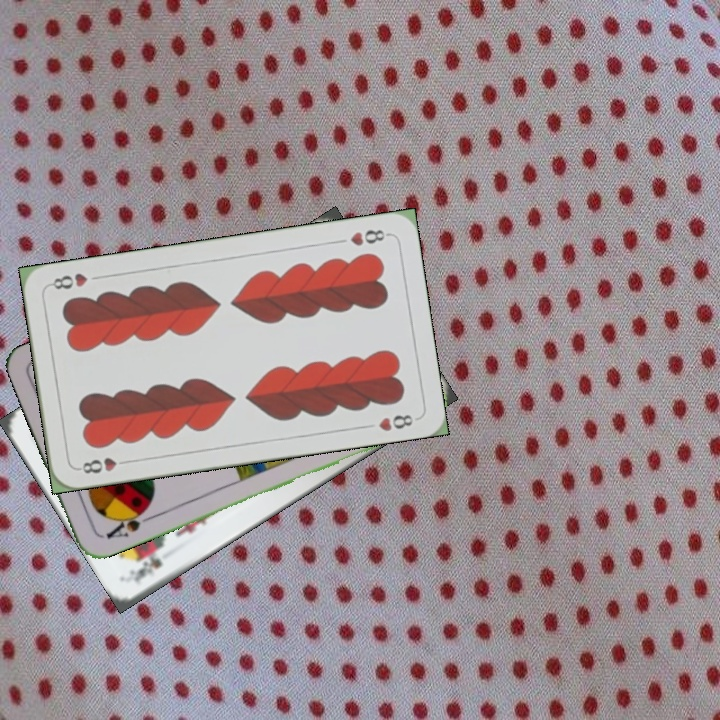H8: (74, 453, 133, 476), (346, 225, 392, 249)
SA: (101, 503, 155, 541)
SK: (125, 552, 165, 587)
